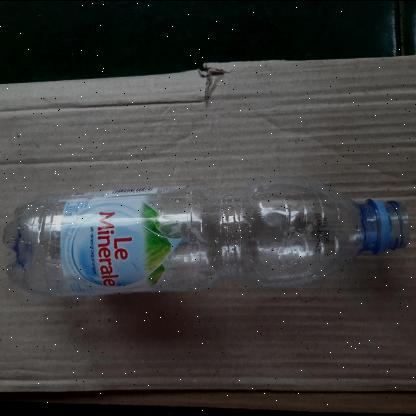Plastic Bottle: (0, 156, 404, 312)
